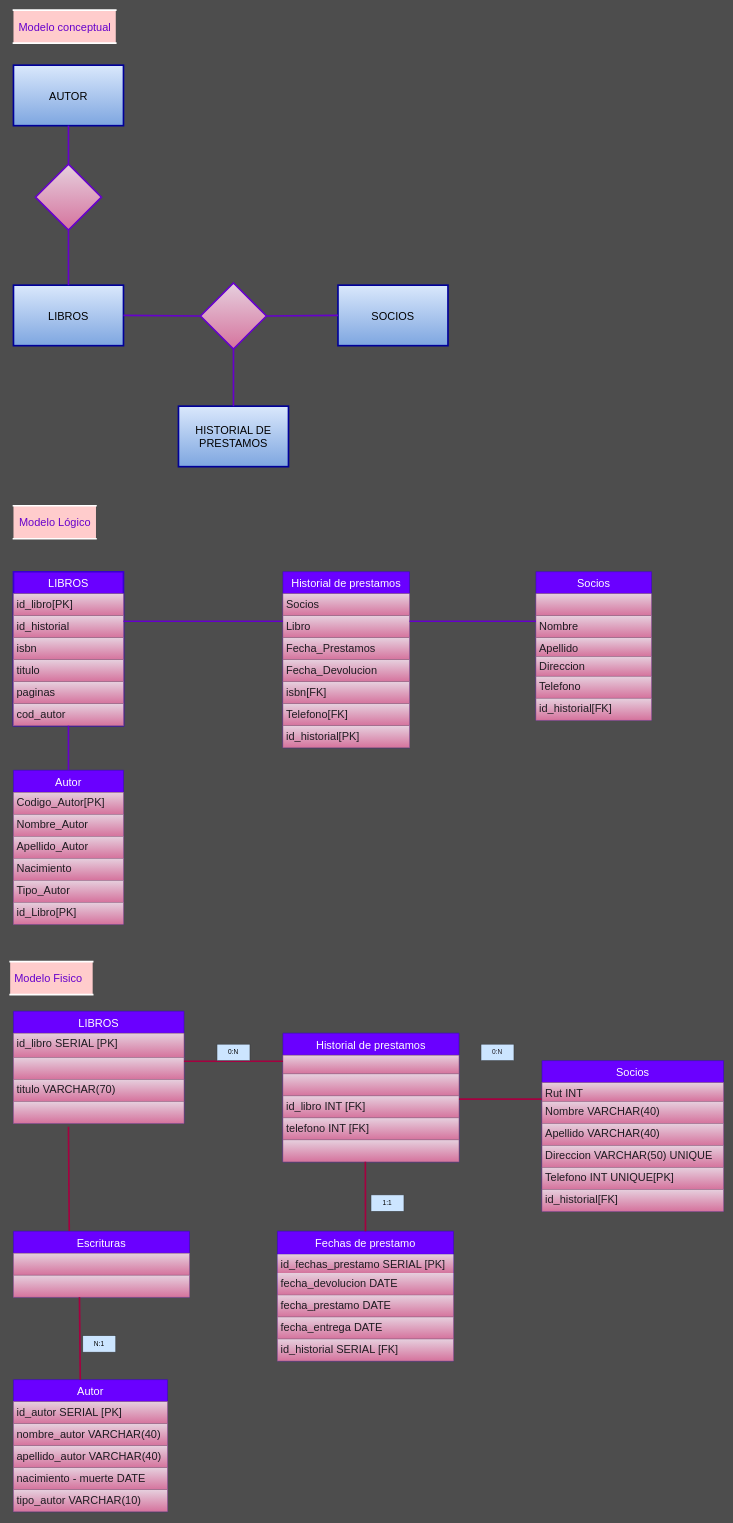
Image size: 733x1523. Some labels were removed from this diagram. The shapes that lost their labels are listed below. From the top down, each one's centre as x and y in pixels, then its label:
At (x=68, y=197): "Escribir".
At (x=233, y=316): "Prestar".
At (x=593, y=604): "Rut".
At (x=98, y=1068): "isbn VARCHAR(15) UNIQUE".
At (x=370, y=1064): "nombre_socio VARCHAR (30)".
At (x=370, y=1084): "titulo_libro VARCHAR(40)".
At (x=98, y=1112): "paginas INT".
At (x=370, y=1150): "id_historial SERIAL [PK]".
At (x=101, y=1264): "id_libro INT NOT NULL [FK]".
At (x=101, y=1286): "id_autor INT NOT NULL [FK]".
